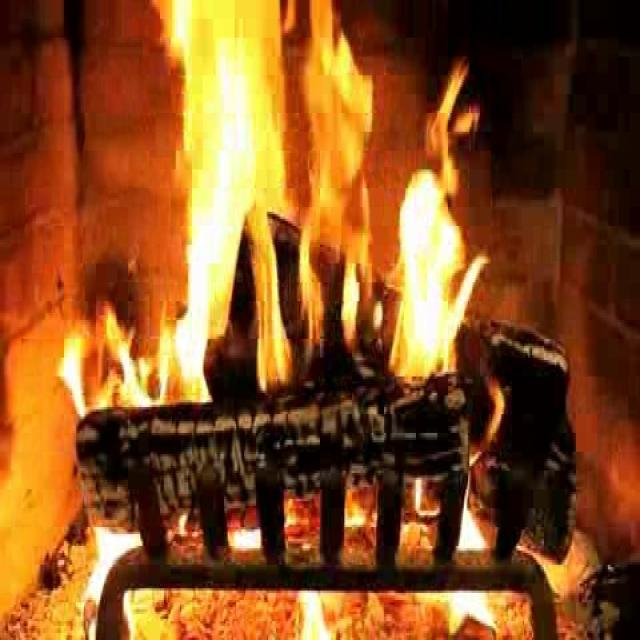fire: (142, 6, 486, 390)
